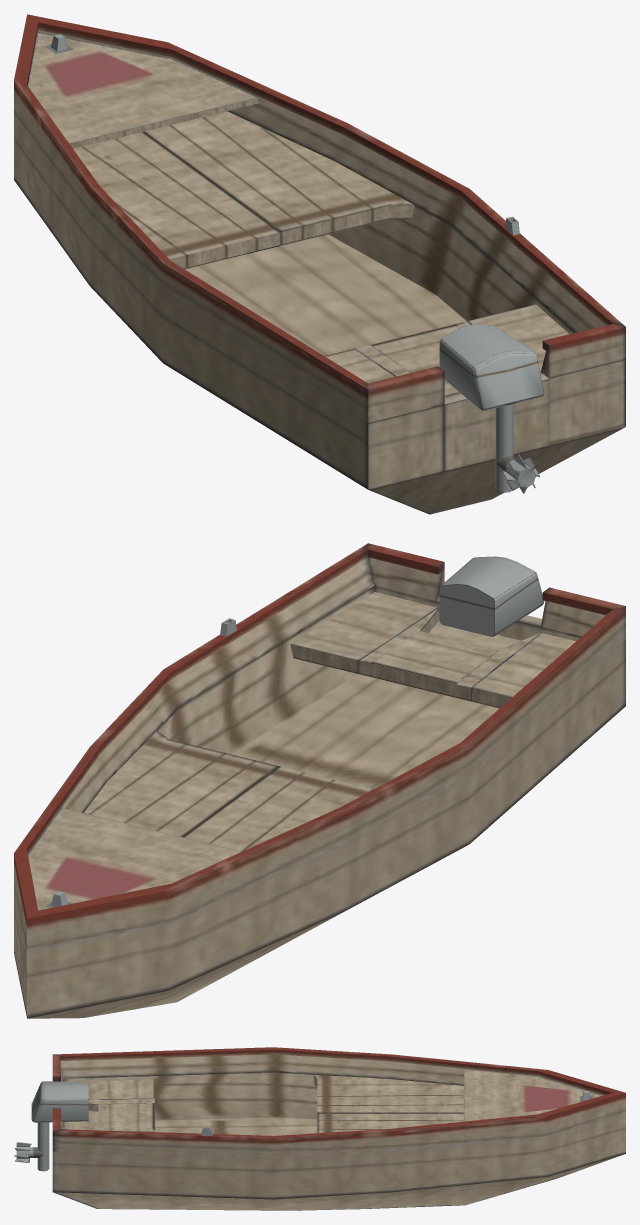
The model's file is DiscoBoat.fbx.
The picture shows the model from 3 angles, top to bottom: view 1: azimuth 30°, elevation 25°; view 2: azimuth 150°, elevation 25°; view 3: azimuth 270°, elevation 25°; orthographic projection. The views are drawn at different scales.
Visible parts, largest first — view 1: Cube; view 2: Cube; view 3: Cube.
Boxes of the visible parts, box(x1,y1,x2,y2) form: Cube: box(14, 14, 625, 514); Cube: box(14, 543, 625, 1018); Cube: box(14, 1047, 625, 1210).
Bounding box in the file's own units: 327 × 190 × 927.
